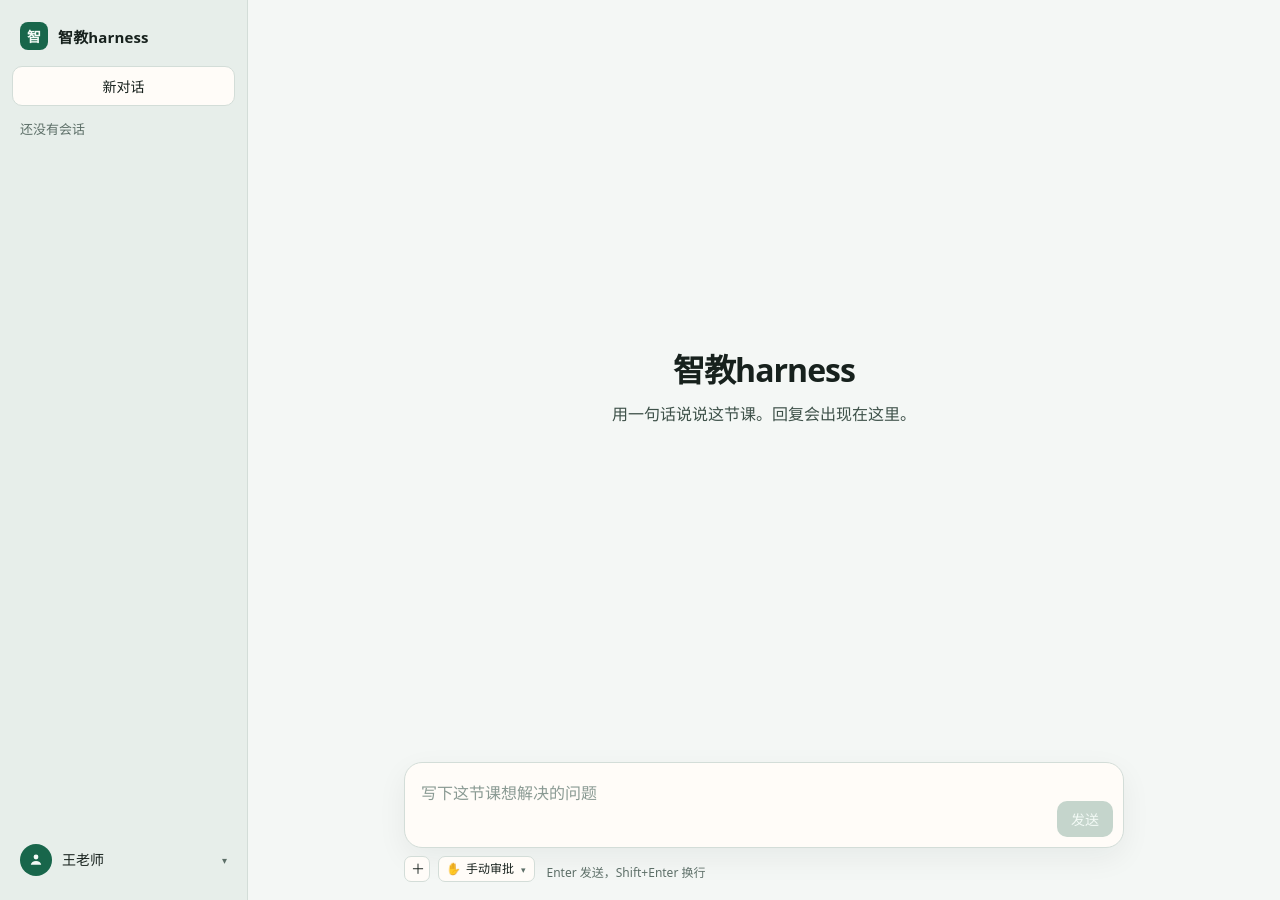
Test case: 工作台 › 加号菜单：未实现项点击后弹出尚未开放提示
This screenshot has width=1280, height=900.
Expected: the button "发送" is shown, x1=1057 y1=801 x2=1113 y2=837
Click the button named "更多操作". click: click(417, 869)
box: x1=404 y1=856 x2=430 y2=882
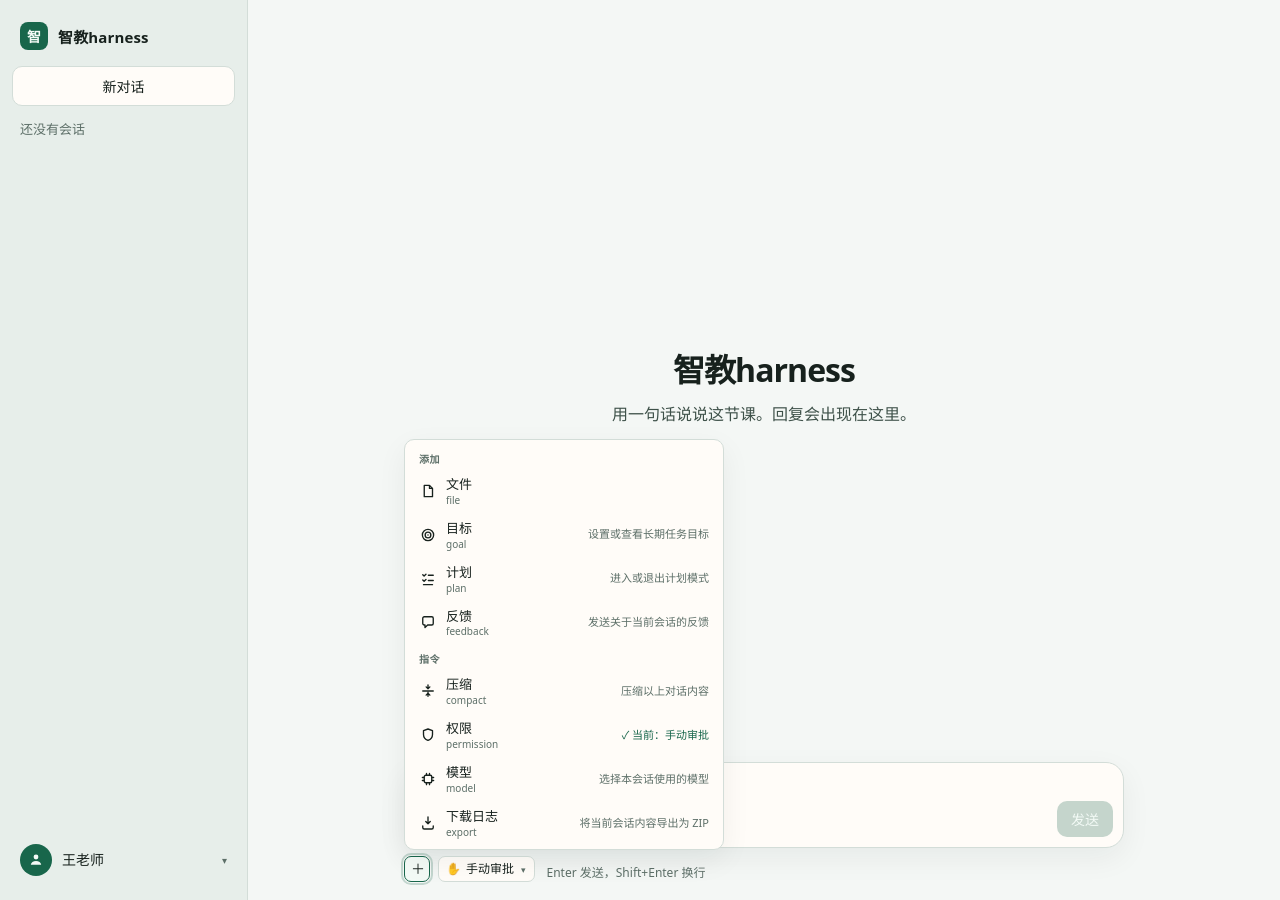
Click the menu item "目标 goal 设置或查看长期任务目标". click: click(648, 534)
box: x1=409 y1=513 x2=719 y2=557
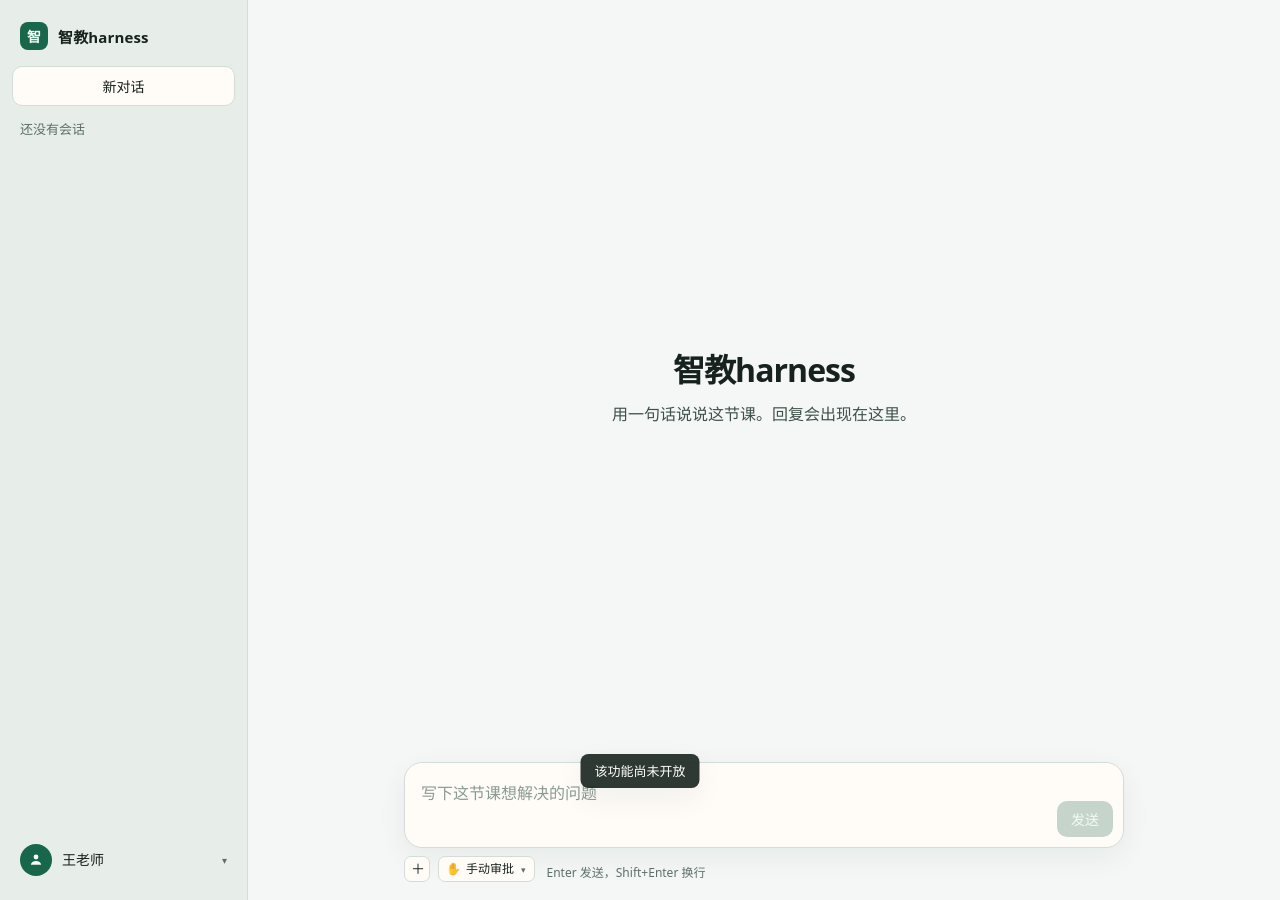
Now the menu is gone
Now the message reads "该功能尚未开放", box x1=594 y1=762 x2=686 y2=780
